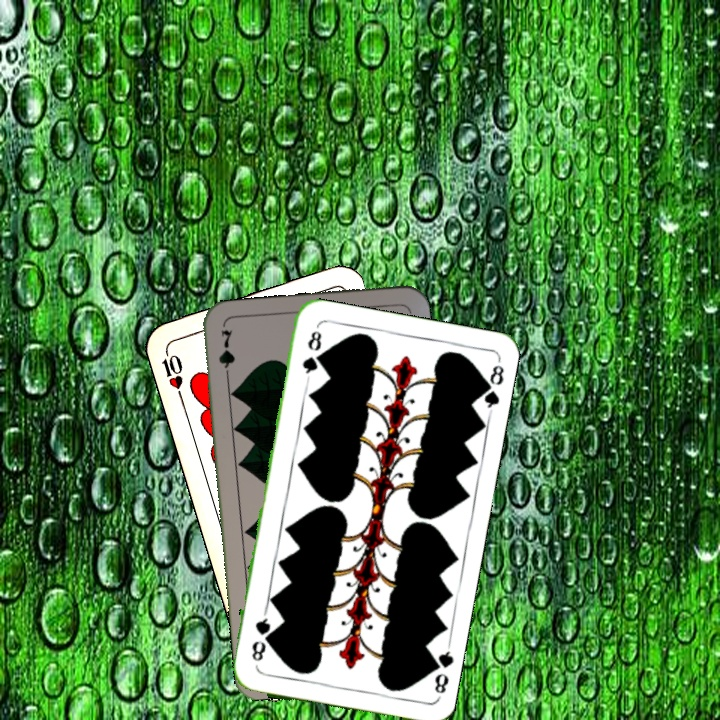G7: (215, 325, 237, 385)
G8: (424, 643, 455, 701), (298, 326, 324, 382)
H10: (157, 344, 186, 402)
